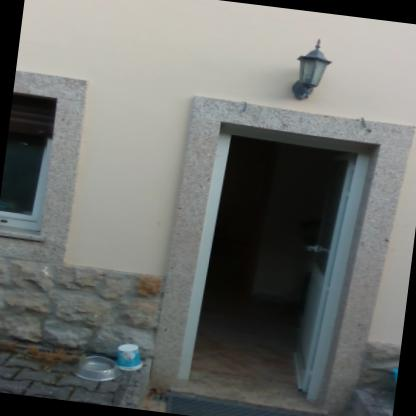open: (160, 101, 395, 415)
